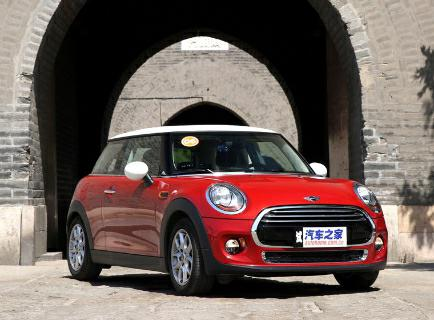MINI: (61, 125, 394, 288)
